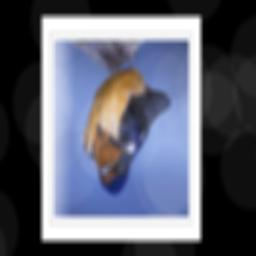Swallow: (81, 43, 185, 200)
